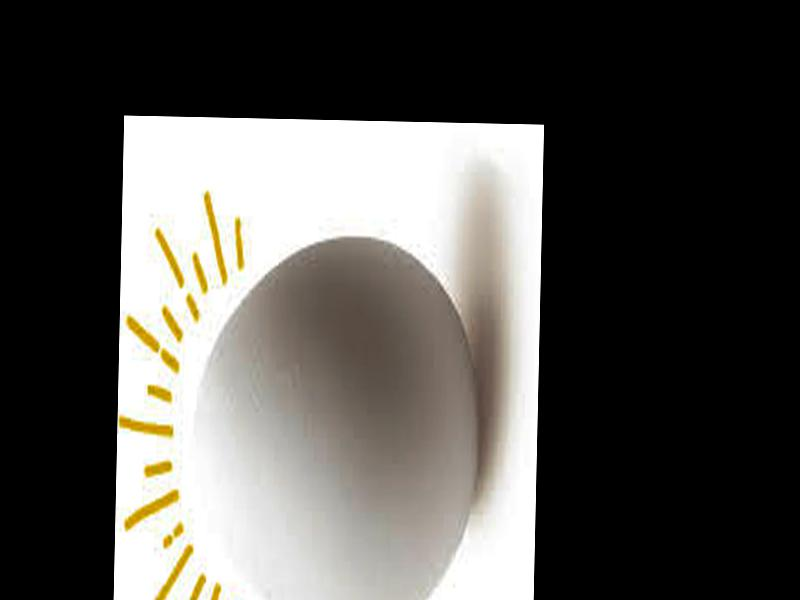Eggs: (191, 233, 482, 600)
